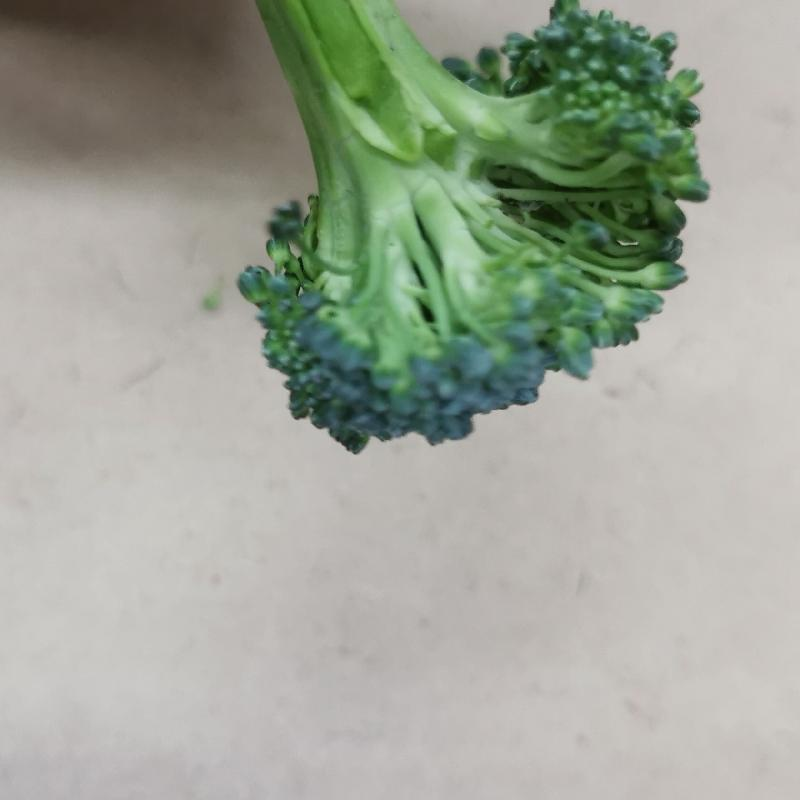broccoli: (201, 1, 714, 457)
